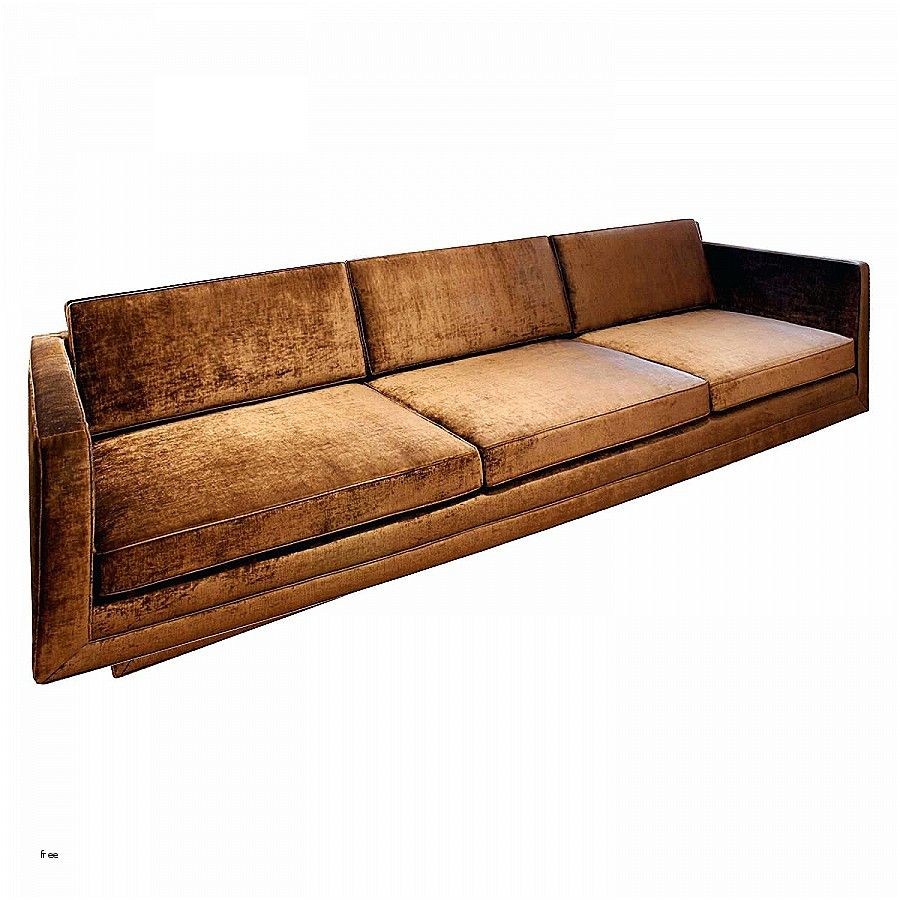sova: (15, 195, 880, 727)
